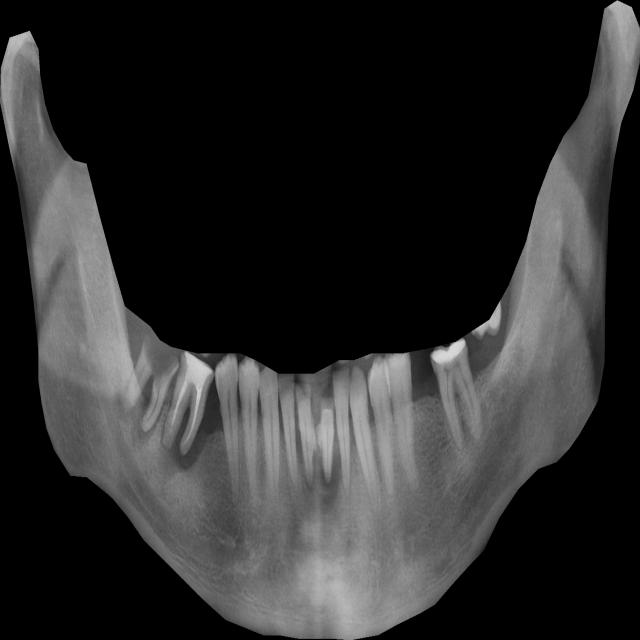mandibula: (0, 0, 640, 640)
